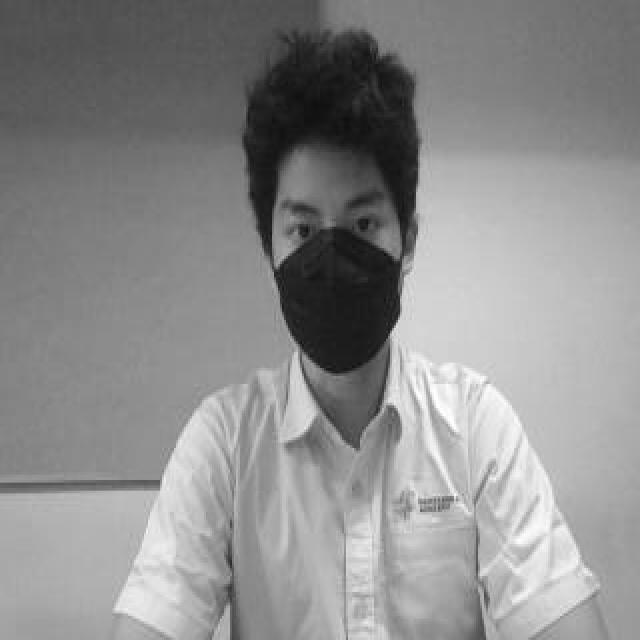Focused: (270, 147, 402, 332)
